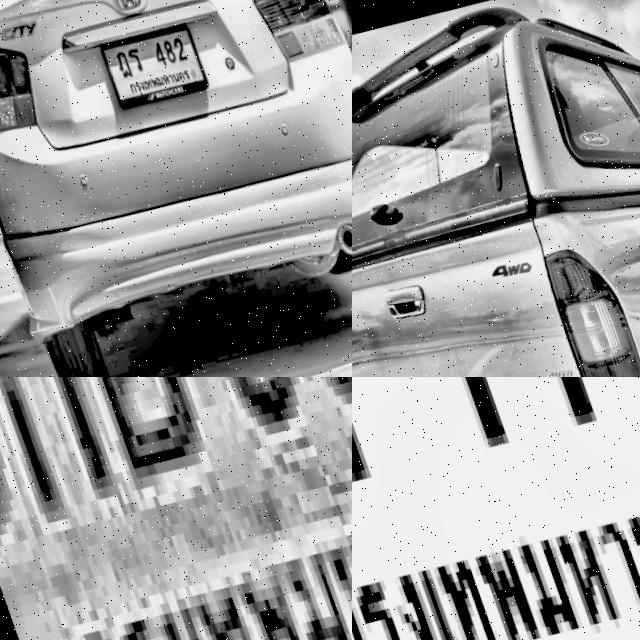license-plate: (0, 377, 352, 640), (352, 377, 640, 640), (87, 9, 209, 118)
